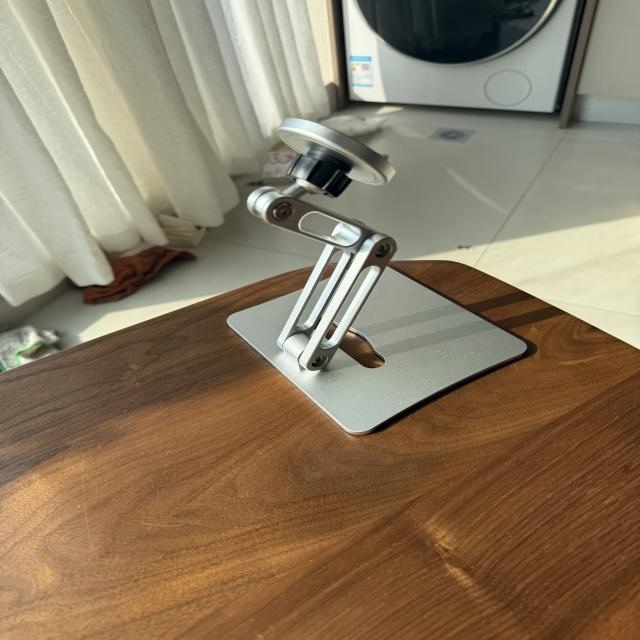phone holder: (201, 99, 552, 446)
